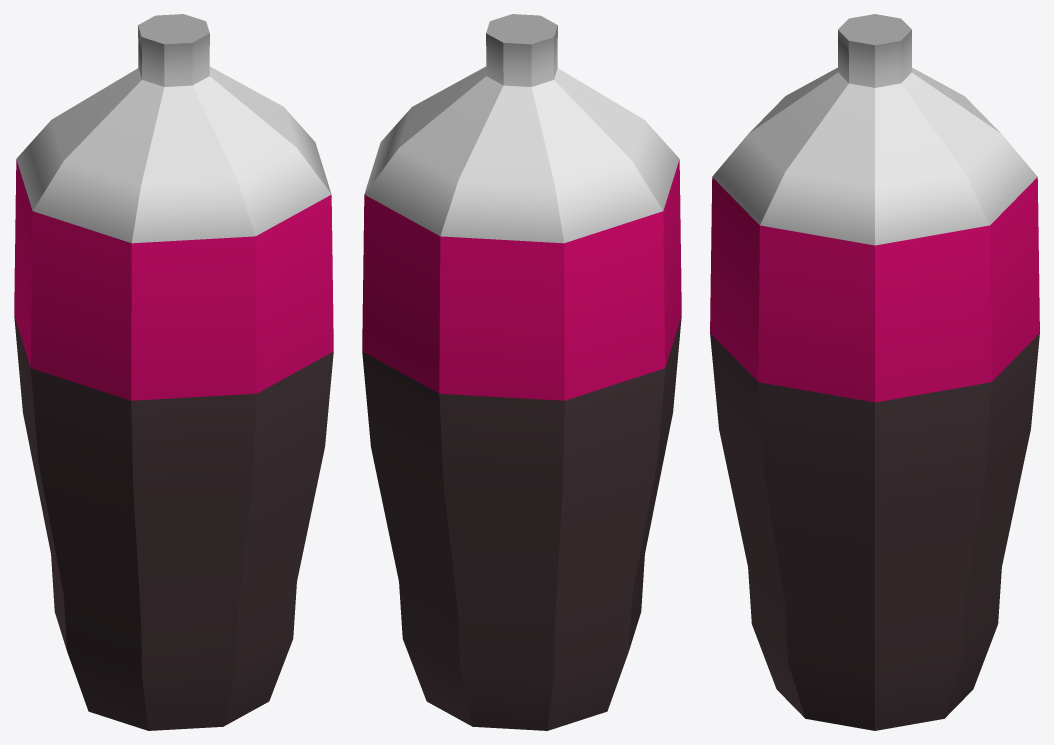
The model's file is coke_1.fbx.
3 renders of one model, left to right at view 1: azimuth 30°, elevation 25°; view 2: azimuth 150°, elevation 25°; view 3: azimuth 270°, elevation 25°, orthographic.
Visible parts, largest first — view 1: pCylinder2; view 2: pCylinder2; view 3: pCylinder2.
Part boxes in pixels (<box>): pCylinder2: <box>14,14,333,730</box>; pCylinder2: <box>362,14,681,730</box>; pCylinder2: <box>710,14,1039,730</box>.
Bounding box in the file's own units: 6.41 × 14.13 × 6.41.
